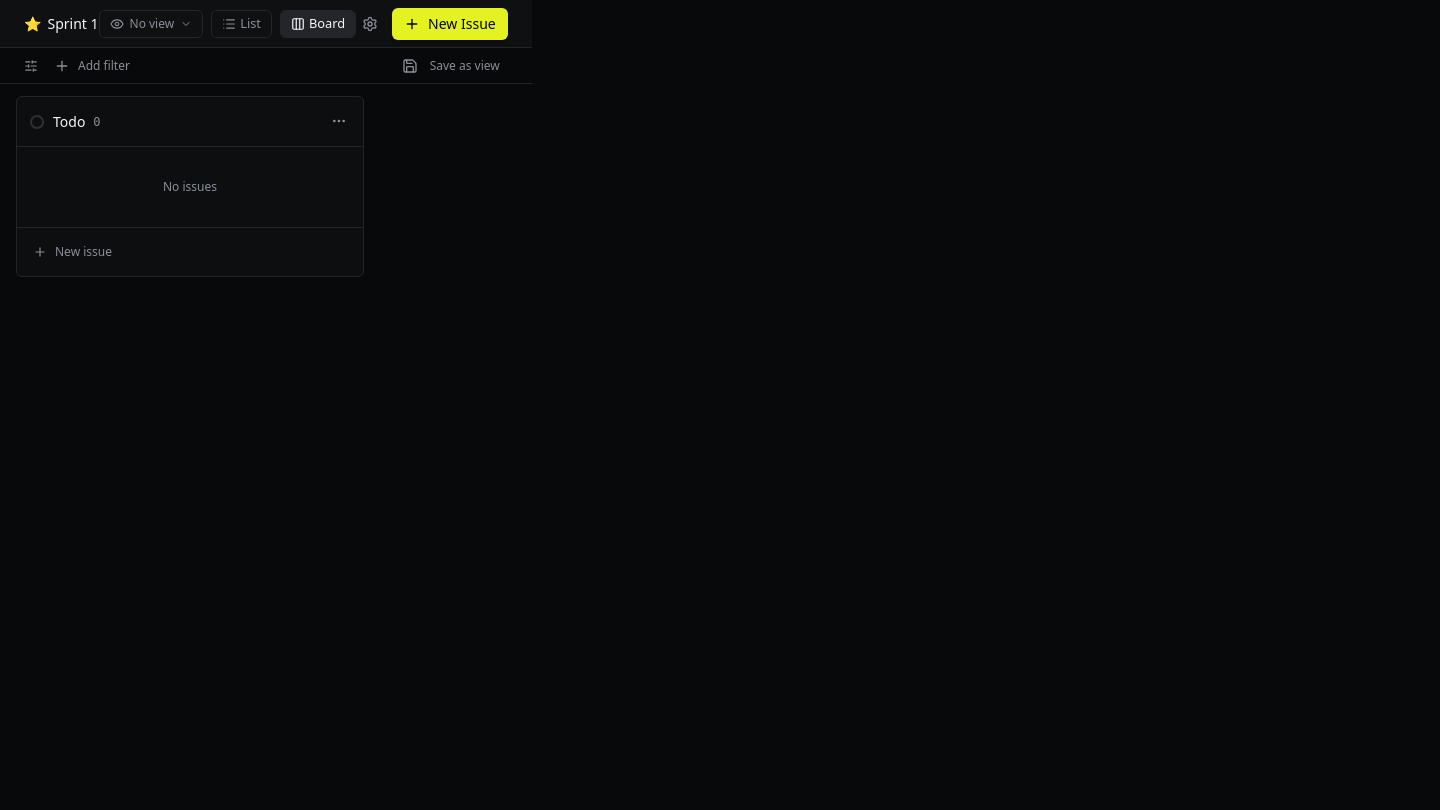
KanbanBoard — shared-view availability (canShare) › offers the shared option when the current user has a Member row
Click the button "Save as view" at (451,66), box top-left (394, 54), bottom-right (508, 78)
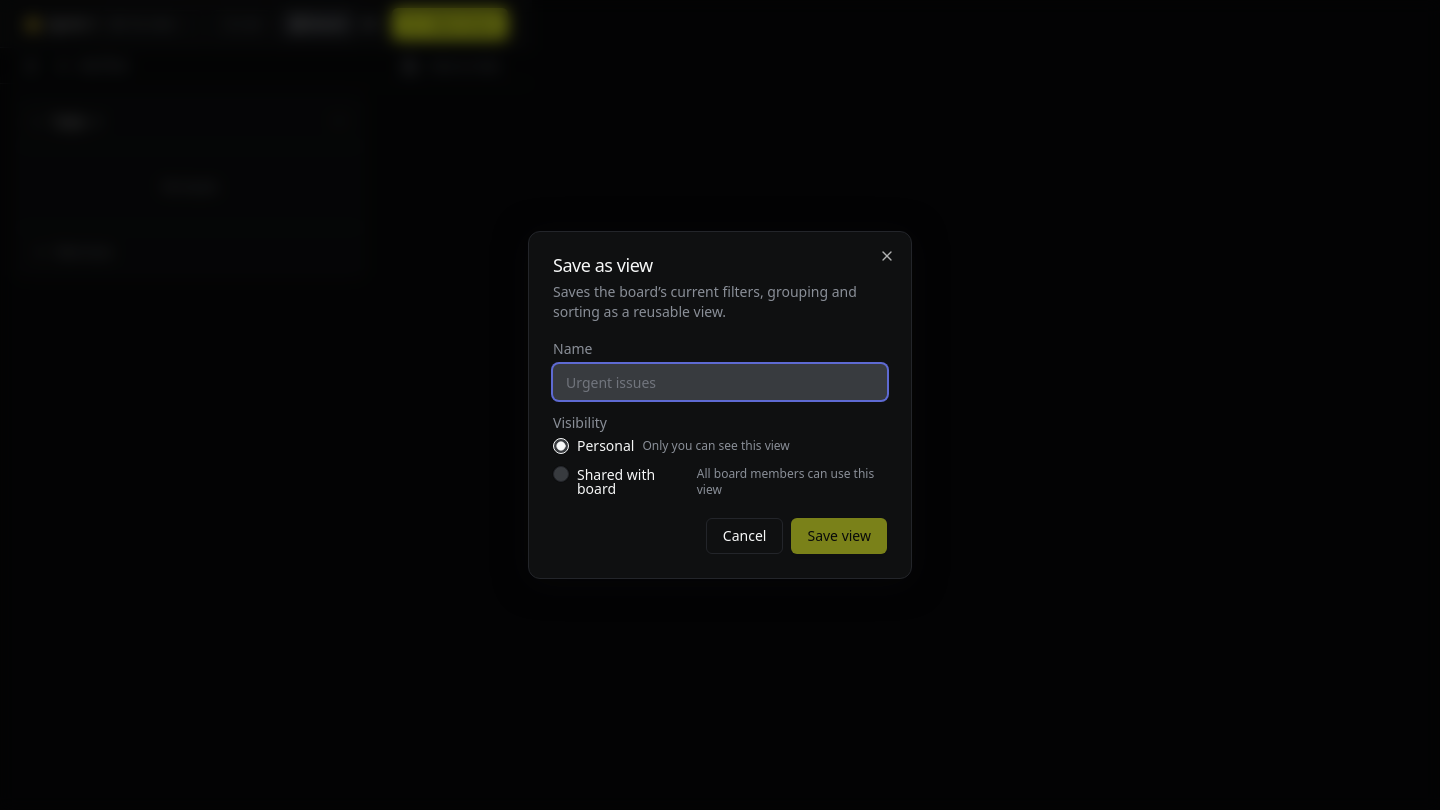
Result: the radio button named "shared" next to "Shared with board" is shown at top-left (553, 466), bottom-right (569, 482)
